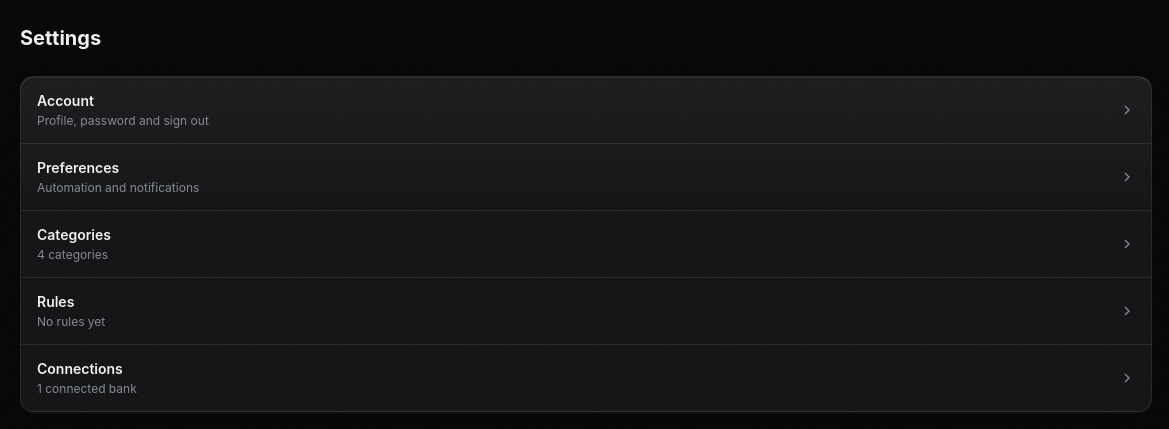
Test: Settings mobile shell › opens a section when its row is tapped, and can come back
The width and height of the screenshot is (1169, 429).
Click the button "Categories 4 categories".
click(74, 234)  # box left=21, top=211, right=1151, bottom=278
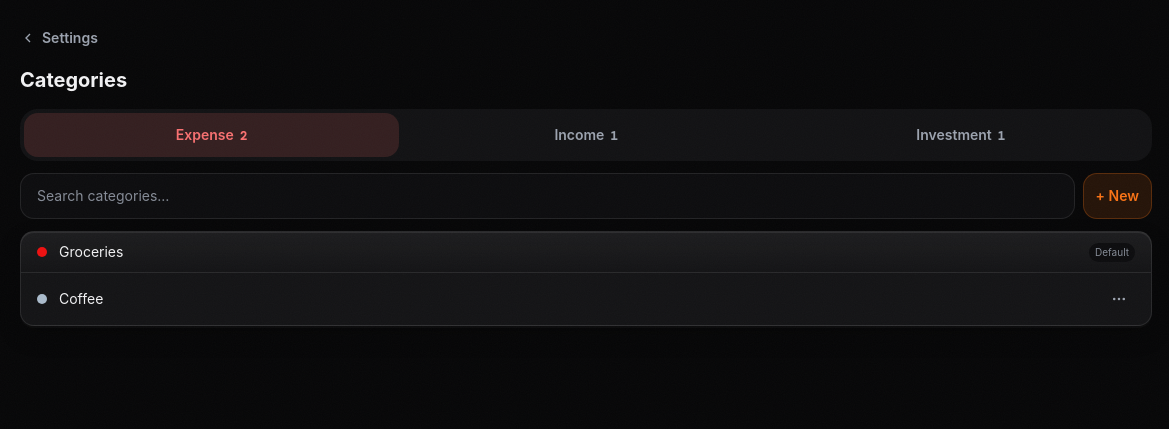
Expected: the text "Groceries" is shown, left=59, top=243, right=123, bottom=260
Click the button "Settings".
click(59, 38)  # box left=16, top=16, right=102, bottom=60
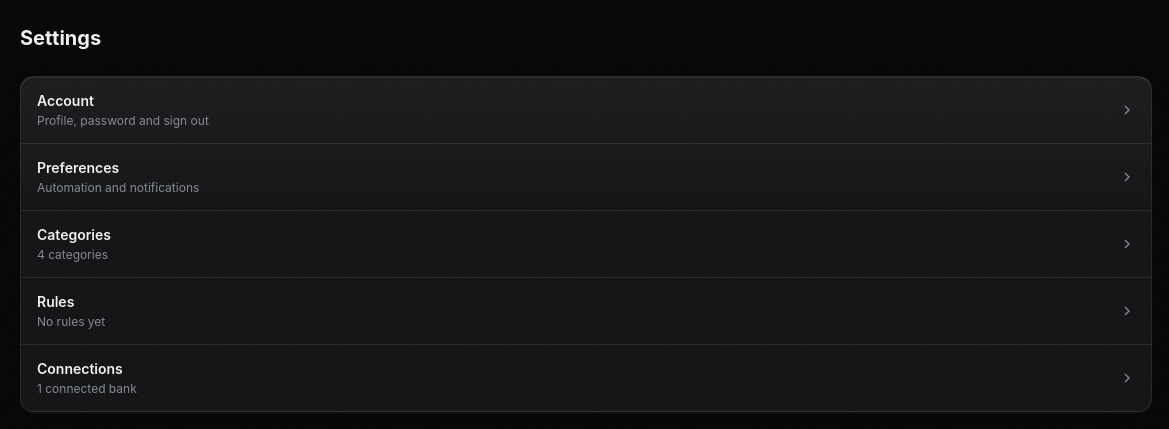
Expected: the text "Groceries" is gone
